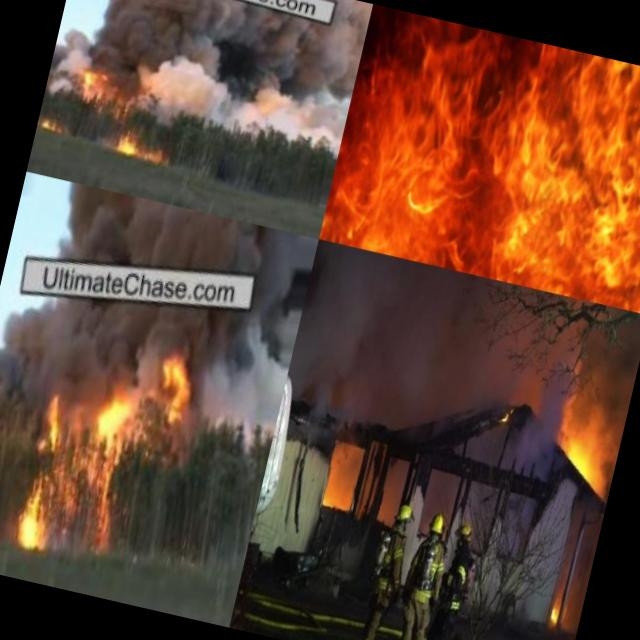fire: (318, 4, 640, 315), (548, 416, 622, 501), (53, 470, 120, 553), (105, 117, 174, 172), (7, 472, 53, 549), (156, 353, 197, 425), (92, 398, 132, 468), (31, 389, 68, 458), (70, 56, 108, 100), (36, 106, 72, 137), (546, 596, 568, 633)
smoke: (288, 242, 544, 474), (101, 0, 365, 158), (0, 292, 172, 405), (183, 322, 294, 436), (504, 351, 576, 485)
